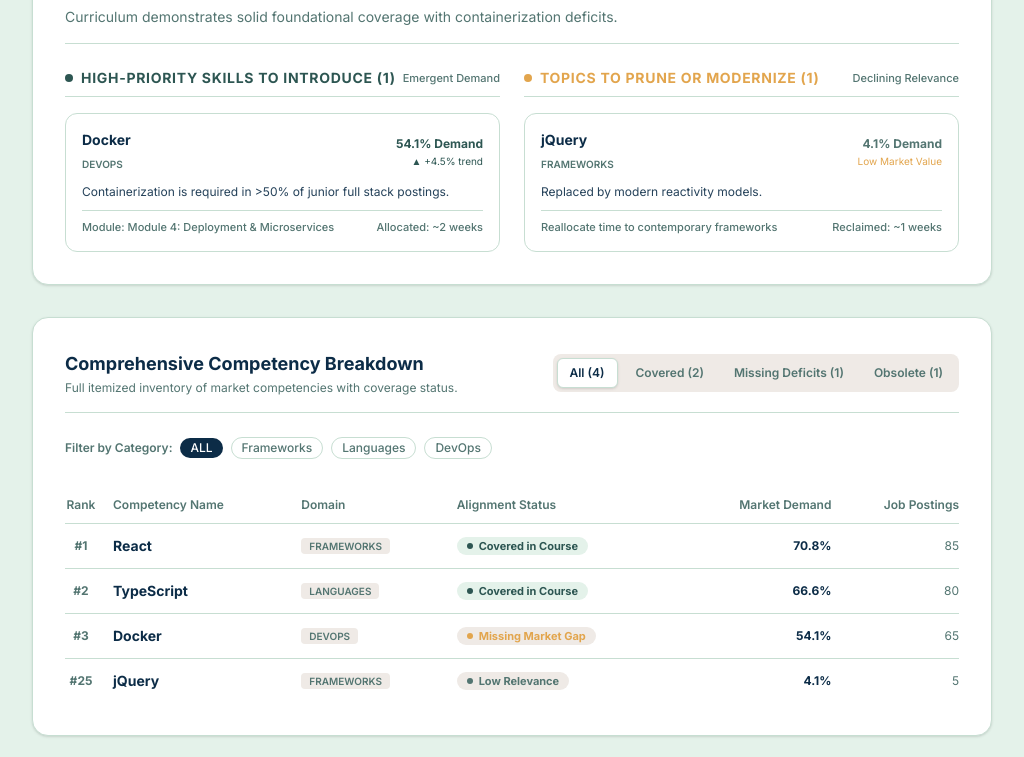
Test: Gap Analysis Dashboard & Directory › AnalysisDetailPage (/analysis/[id]) › filters detailed competencies by kind (Covered, Missing, Obsolete)
(page scrolled)
Expected: the heading "Comprehensive Competency Breakdown" is shown, left=65, top=350, right=458, bottom=378
Expected: the text "React" is shown, left=113, top=524, right=301, bottom=568
// Filter to Missing only
Click the button "Missing Deficits (1)": x=789, y=373 left=722, top=359, right=856, bottom=387
(page scrolled)
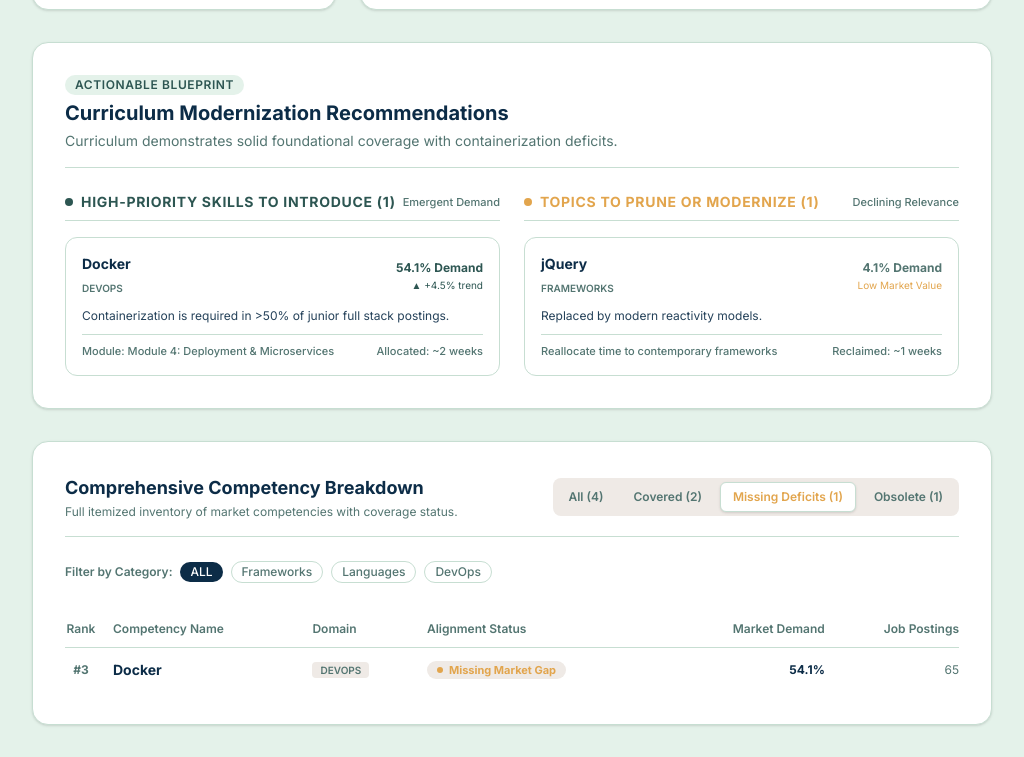
Expected: the text "Docker" is shown, left=82, top=254, right=131, bottom=274
// Filter to Covered only
Click the button "Covered (2)": x=668, y=497 left=622, top=483, right=714, bottom=511
(page scrolled)
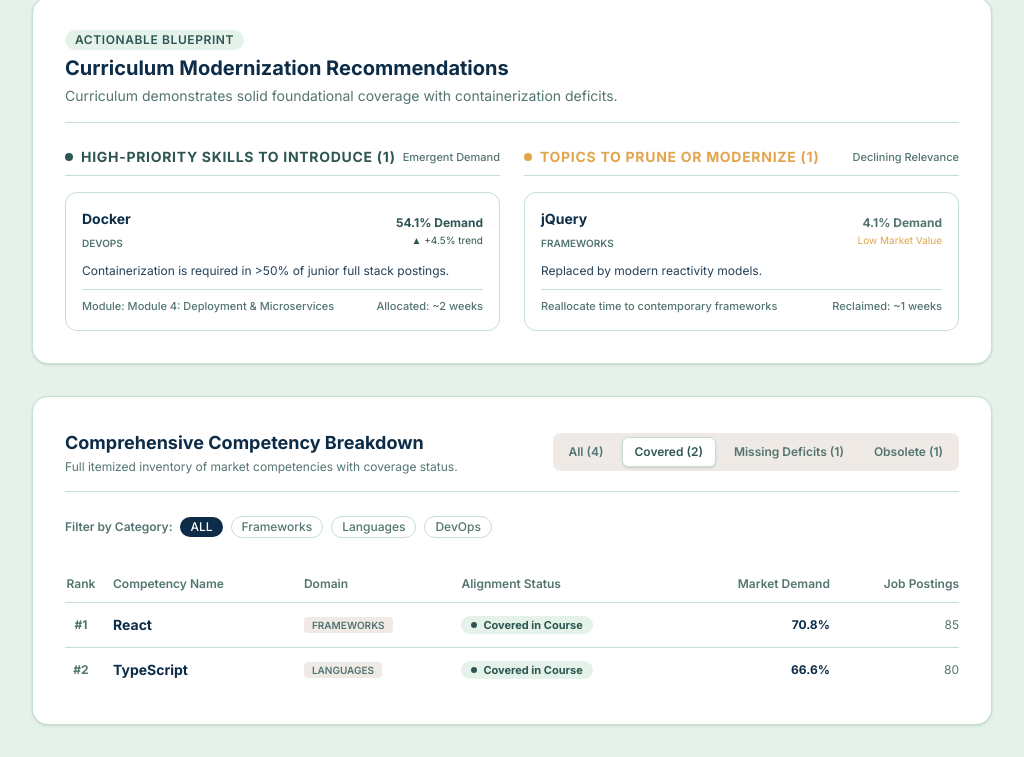
Expected: the text "React" is shown, left=113, top=602, right=304, bottom=648
Expected: the text "TypeScript" is shown, left=113, top=648, right=304, bottom=692
